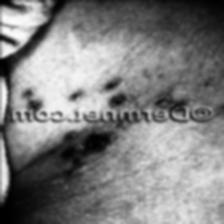Toxin: (80, 132, 108, 150), (24, 98, 43, 110)
